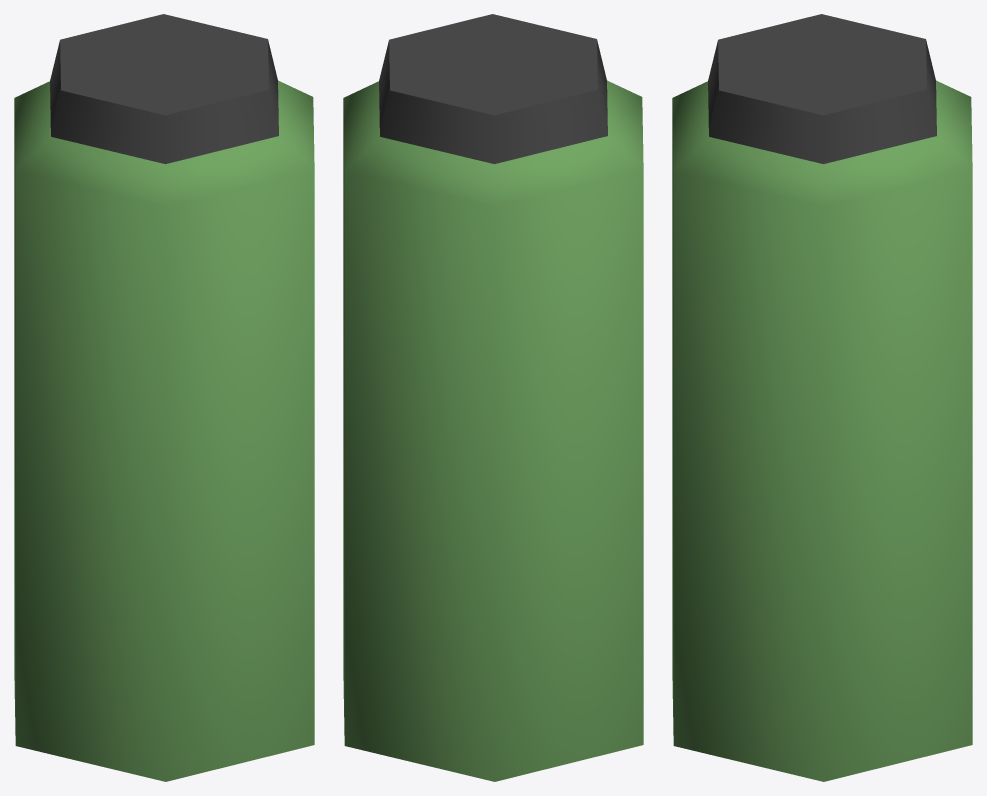
The model's file is SM_Bottle_03.fbx.
3 views of the same model, side by side, from view 1: azimuth 30°, elevation 25°; view 2: azimuth 150°, elevation 25°; view 3: azimuth 270°, elevation 25° (orthographic).
Visible parts, largest first — view 1: SM_Bottle_03; view 2: SM_Bottle_03; view 3: SM_Bottle_03.
Boxes of the visible parts, x1,y1,x2,y2 form: SM_Bottle_03: [14, 14, 314, 781]; SM_Bottle_03: [343, 14, 643, 781]; SM_Bottle_03: [672, 14, 972, 781].
Size of the model in its own units: 9.61 by 19.8 by 8.36.
1 material, 1 textured.
